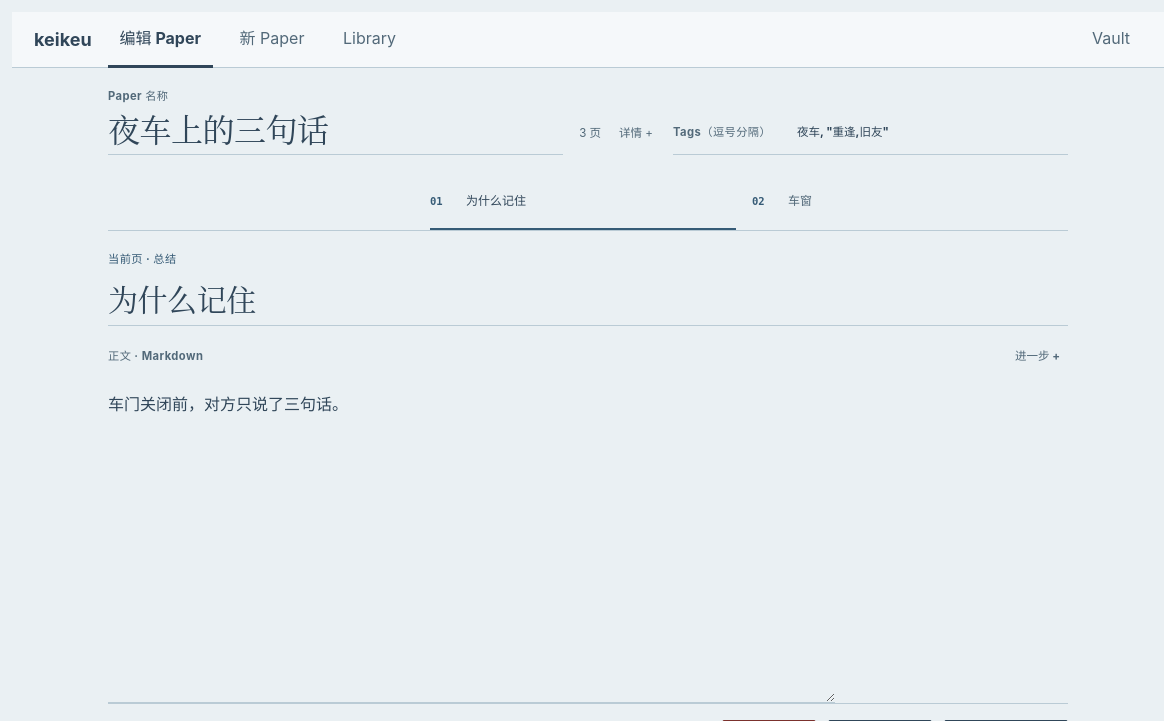
Scenario: Road v0.7 development-only prototype › separates normal Vault context from blocking recovery
The width and height of the screenshot is (1164, 721).
Click the button "Vault" at coordinates (1111, 40), box [1080,12,1142,68]
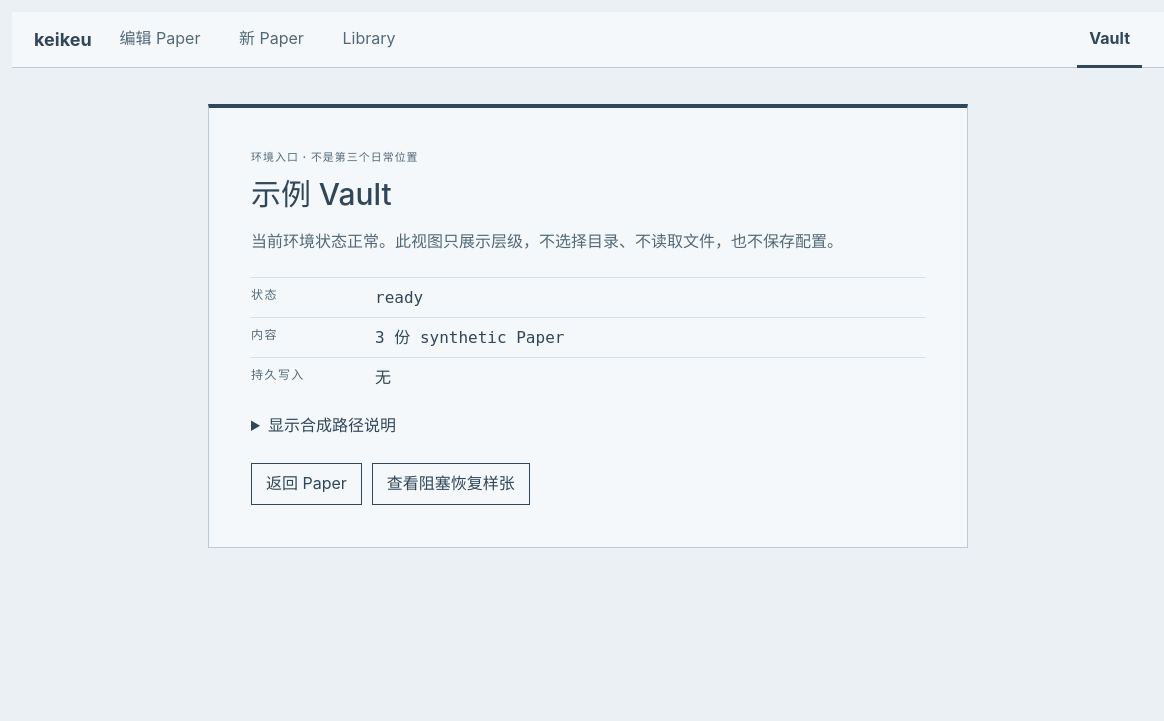
Check: the text "环境入口 · 不是第三个日常位置" is shown, box [251,150,419,164]
Click the button "查看阻塞恢复样张" at coordinates (451, 484), box [372,463,530,505]
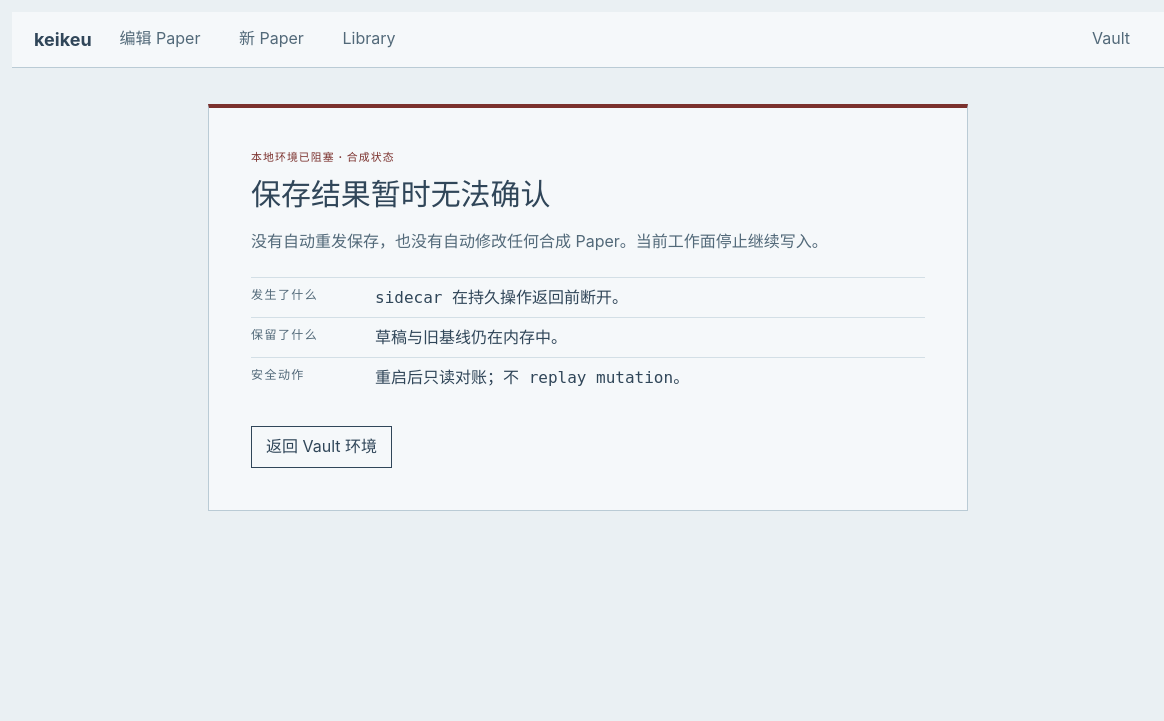
Check: the heading "保存结果暂时无法确认" is shown, box [251,176,550,212]
Check: the text "没有自动重发保存" is shown, box [251,231,828,251]
Click the button "返回 Vault 环境" at coordinates (322, 446), box [251,426,392,468]
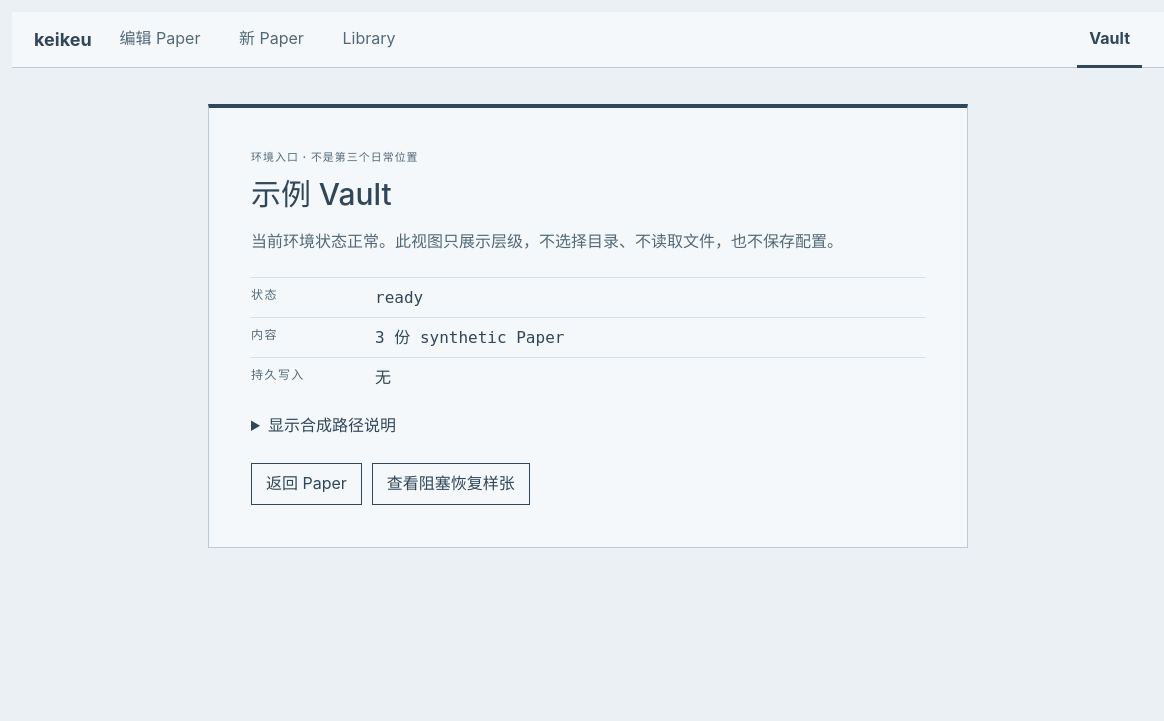
Check: the heading "示例 Vault" is shown, box [251,176,392,212]
